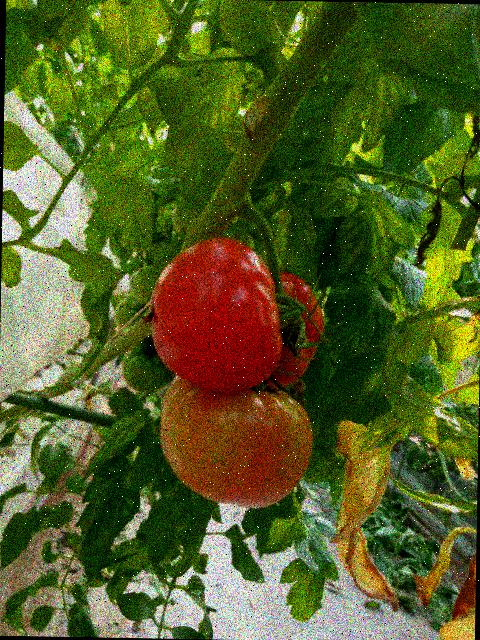b_fully_ripened: (148, 236, 285, 394), (247, 271, 325, 391)
b_half_ripened: (158, 376, 313, 509)
